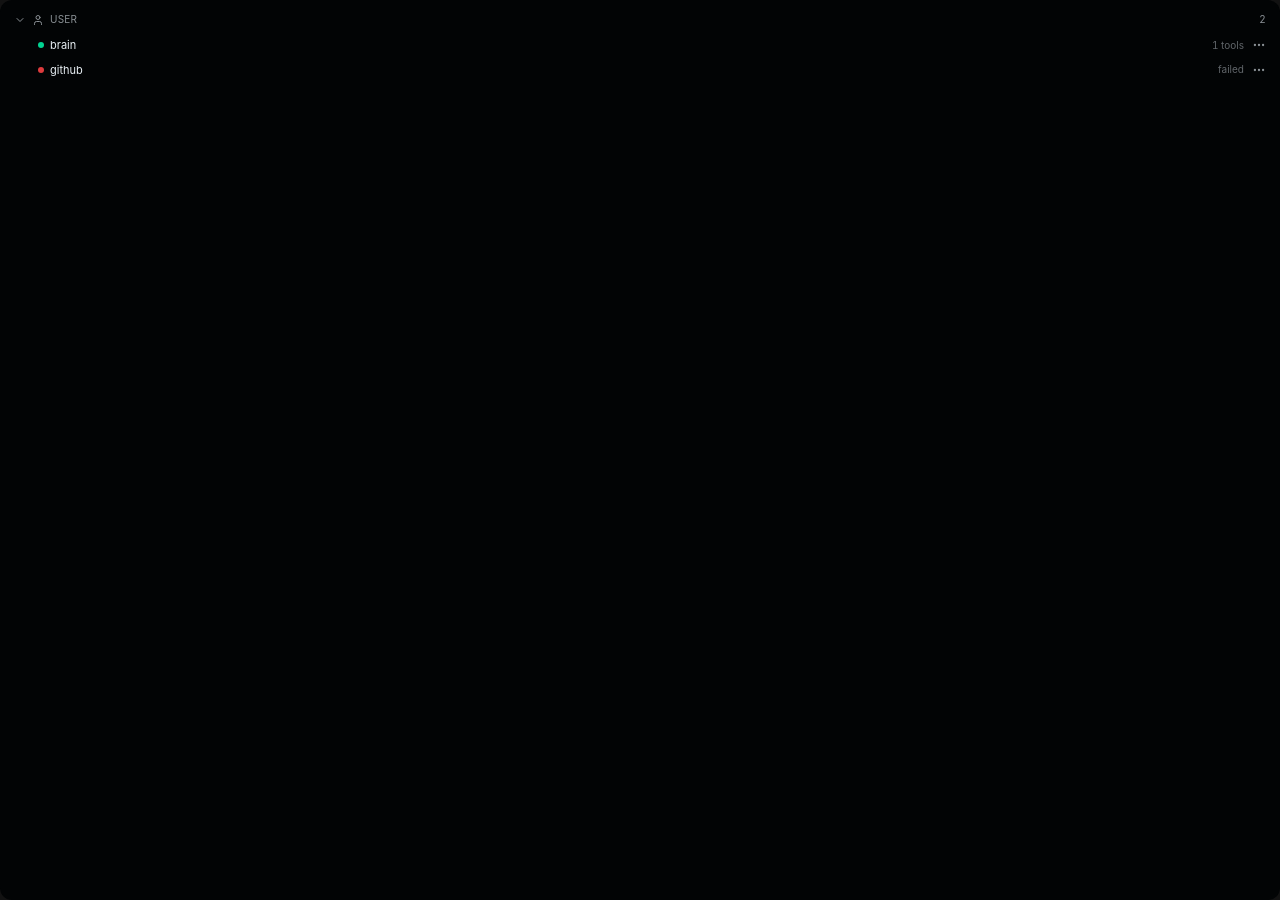
Test: SessionMCPStatus › collapses a scope group
Click the button "User 2". click: (20,20)
box: [8,8,1272,31]
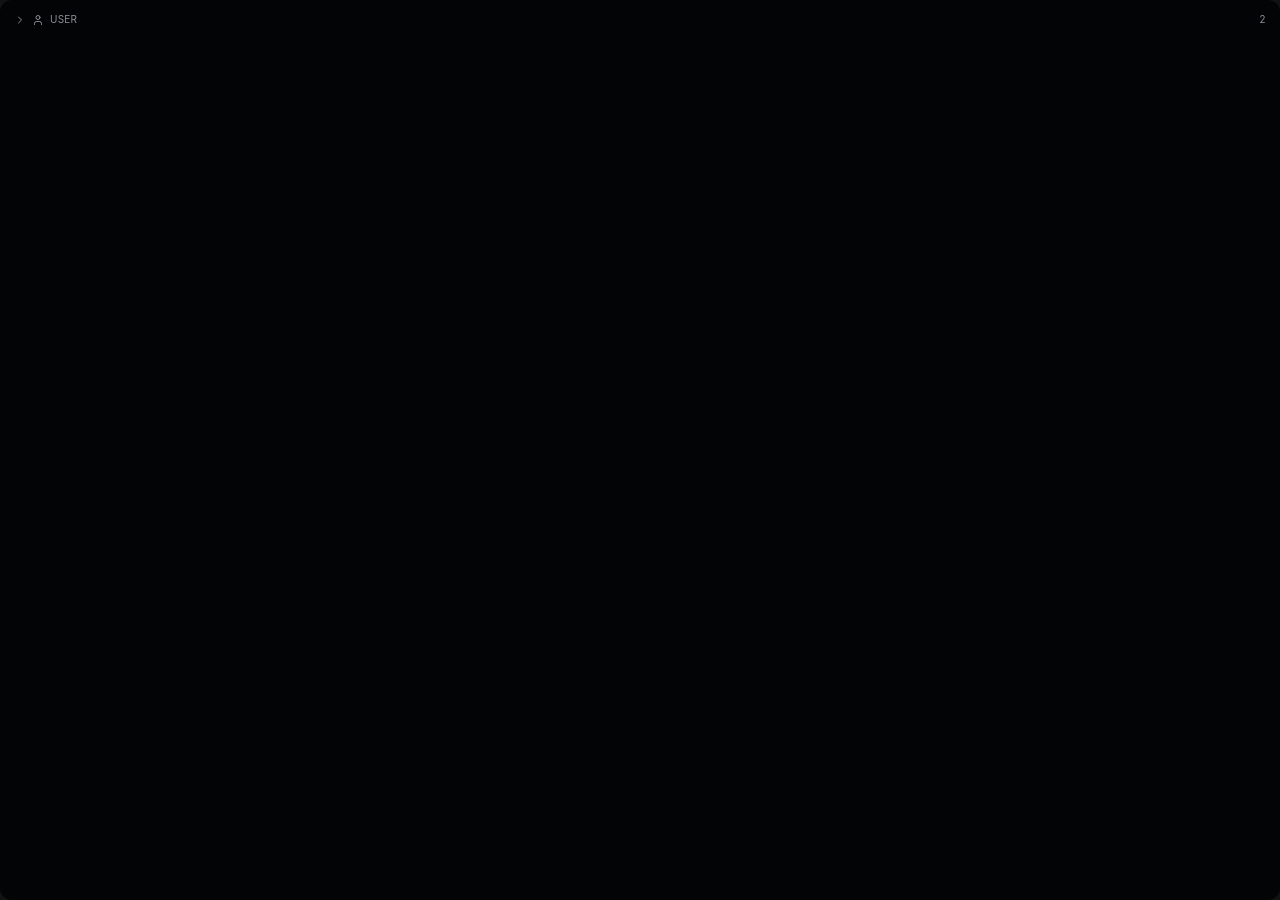
Check: the button "brain" is gone
